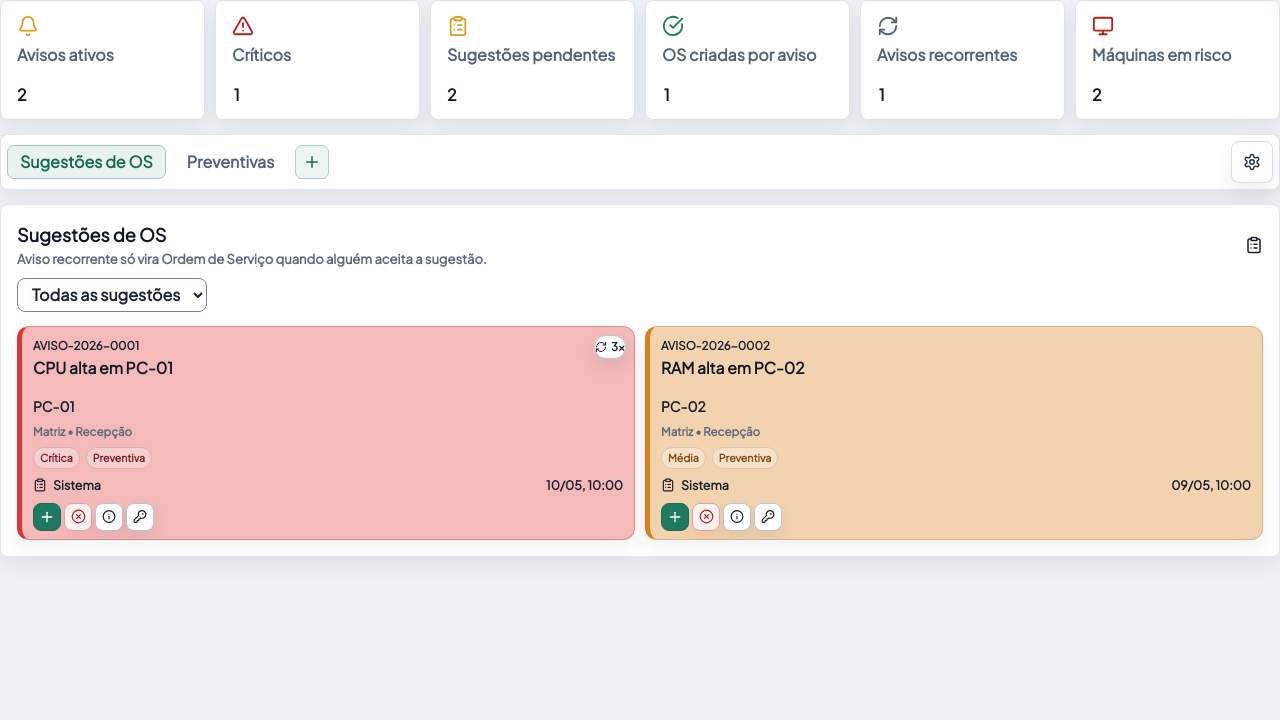
Scenario: AlertCenterV2 - detalhes da sugestão › cria a OS pelo modal e fecha o diálogo
What coordinates should you click on to do the following:
click the button named "Ver detalhes do aviso" below "Crítica"
I would click on:
 (109, 516)
Its box is [95,502,123,530].
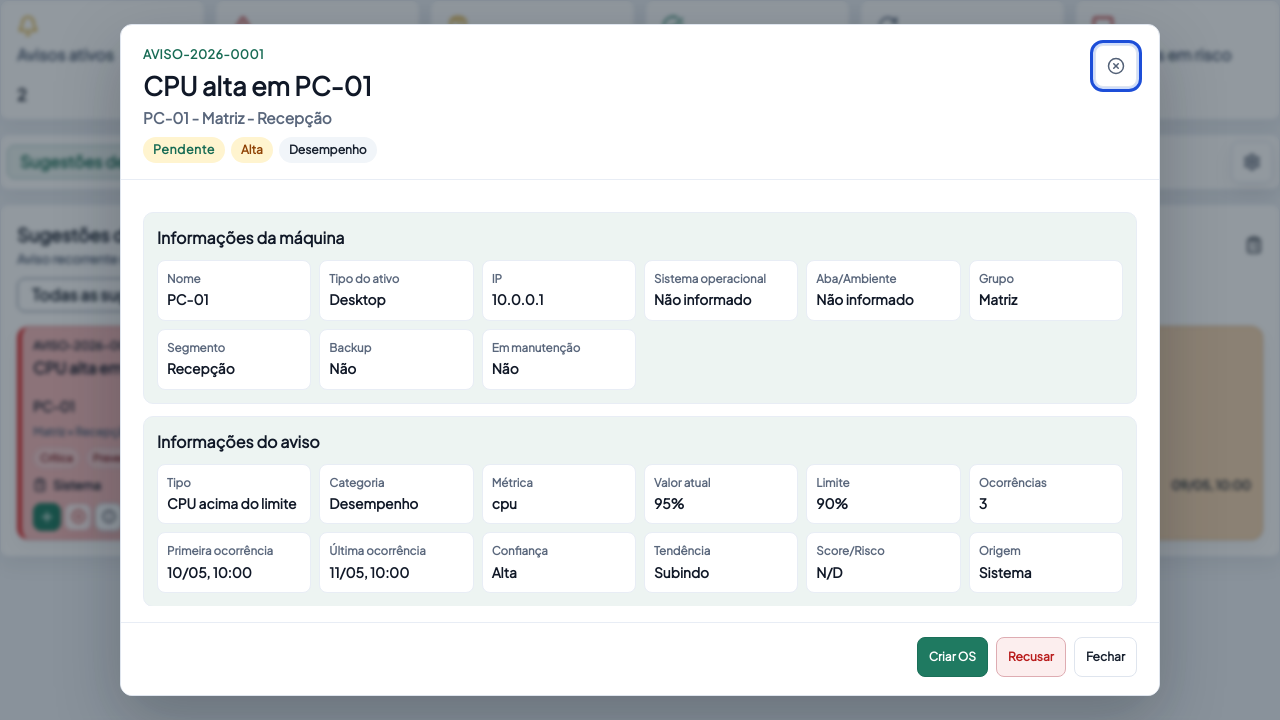
What coordinates should you click on to do the following:
click the button "Criar OS"
I would click on:
 (952, 657)
Its box is [917,637,988,677].
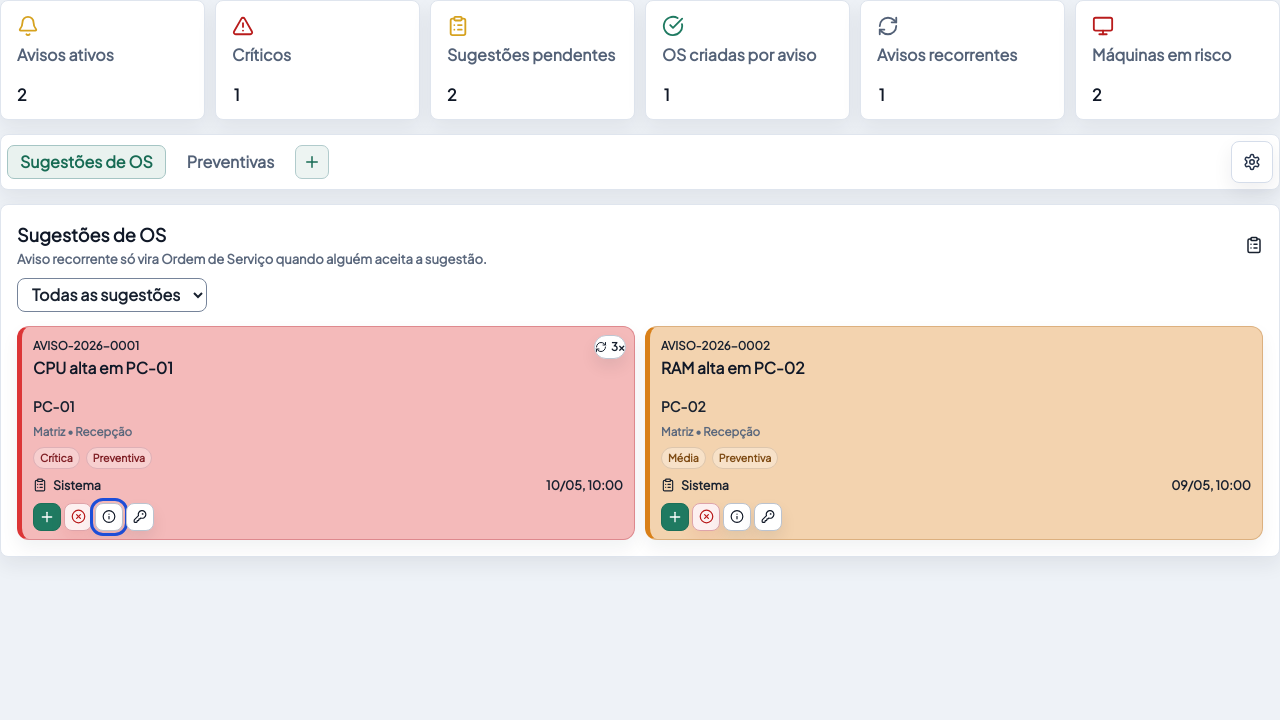
Expected: the dialog is gone
